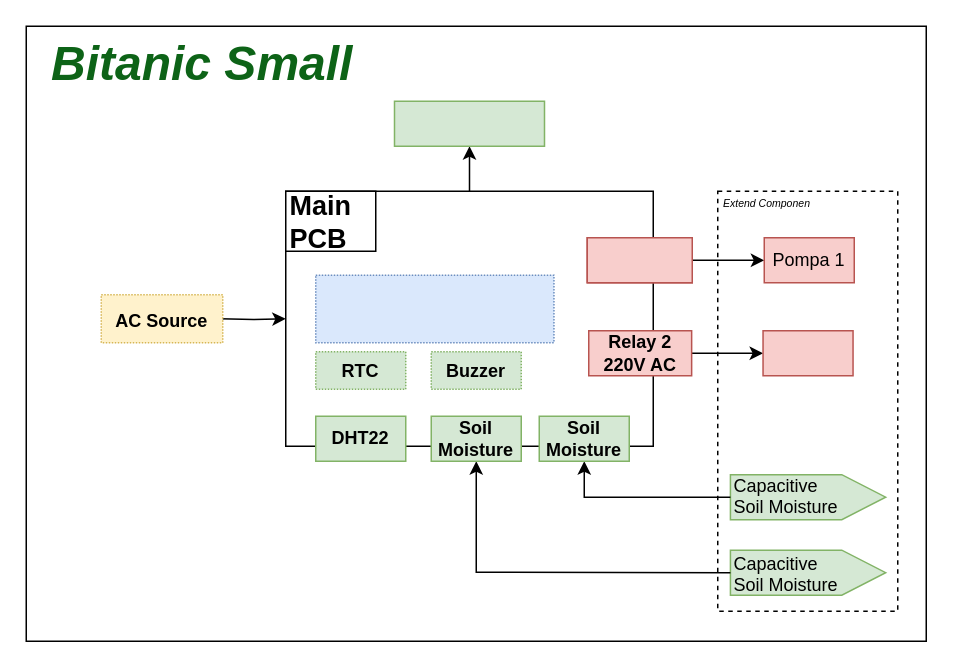
The diagram is 953 pixels wide and 668 high, and some of its shapes have lost their labels. The box of each missing label's shape, as (x1, y1, x2, y2) in pixels:
LCD 20x4 I2C: (393, 100, 544, 146)
Pompa 2: (762, 329, 853, 376)
Relay 1 220V AC: (586, 236, 692, 283)
Robotdyn Smart Home ESP32: (314, 274, 554, 343)
